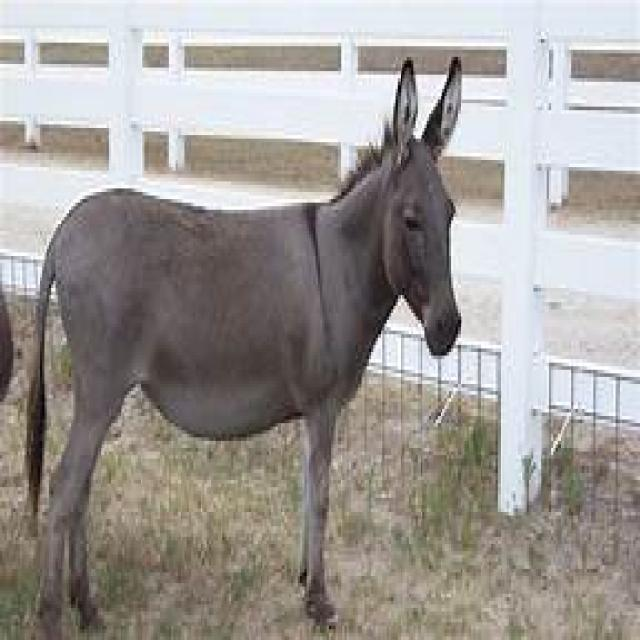Donkey: (26, 34, 487, 640)
